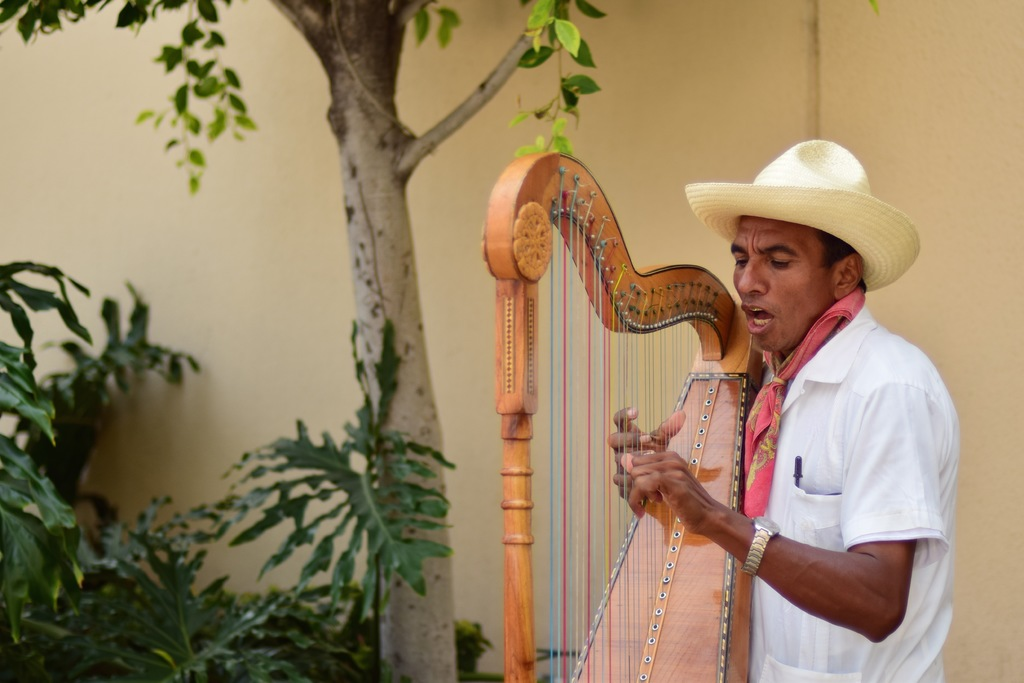Tree: (0, 0, 608, 683)
